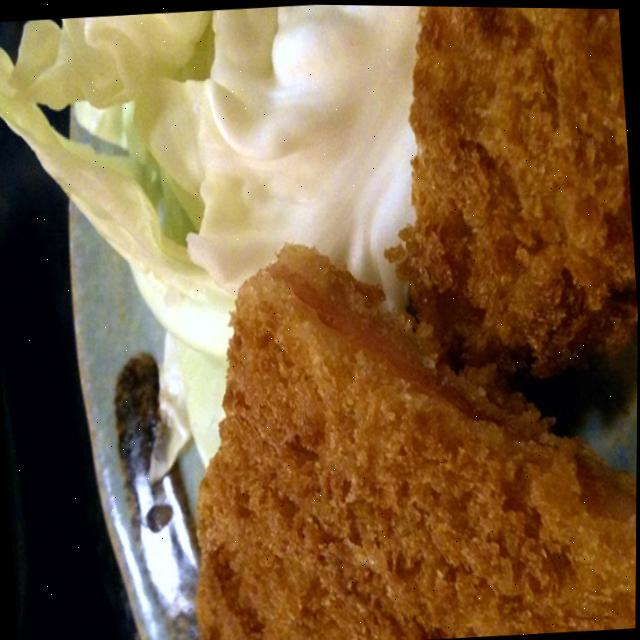炸货点心: (135, 2, 640, 640)
